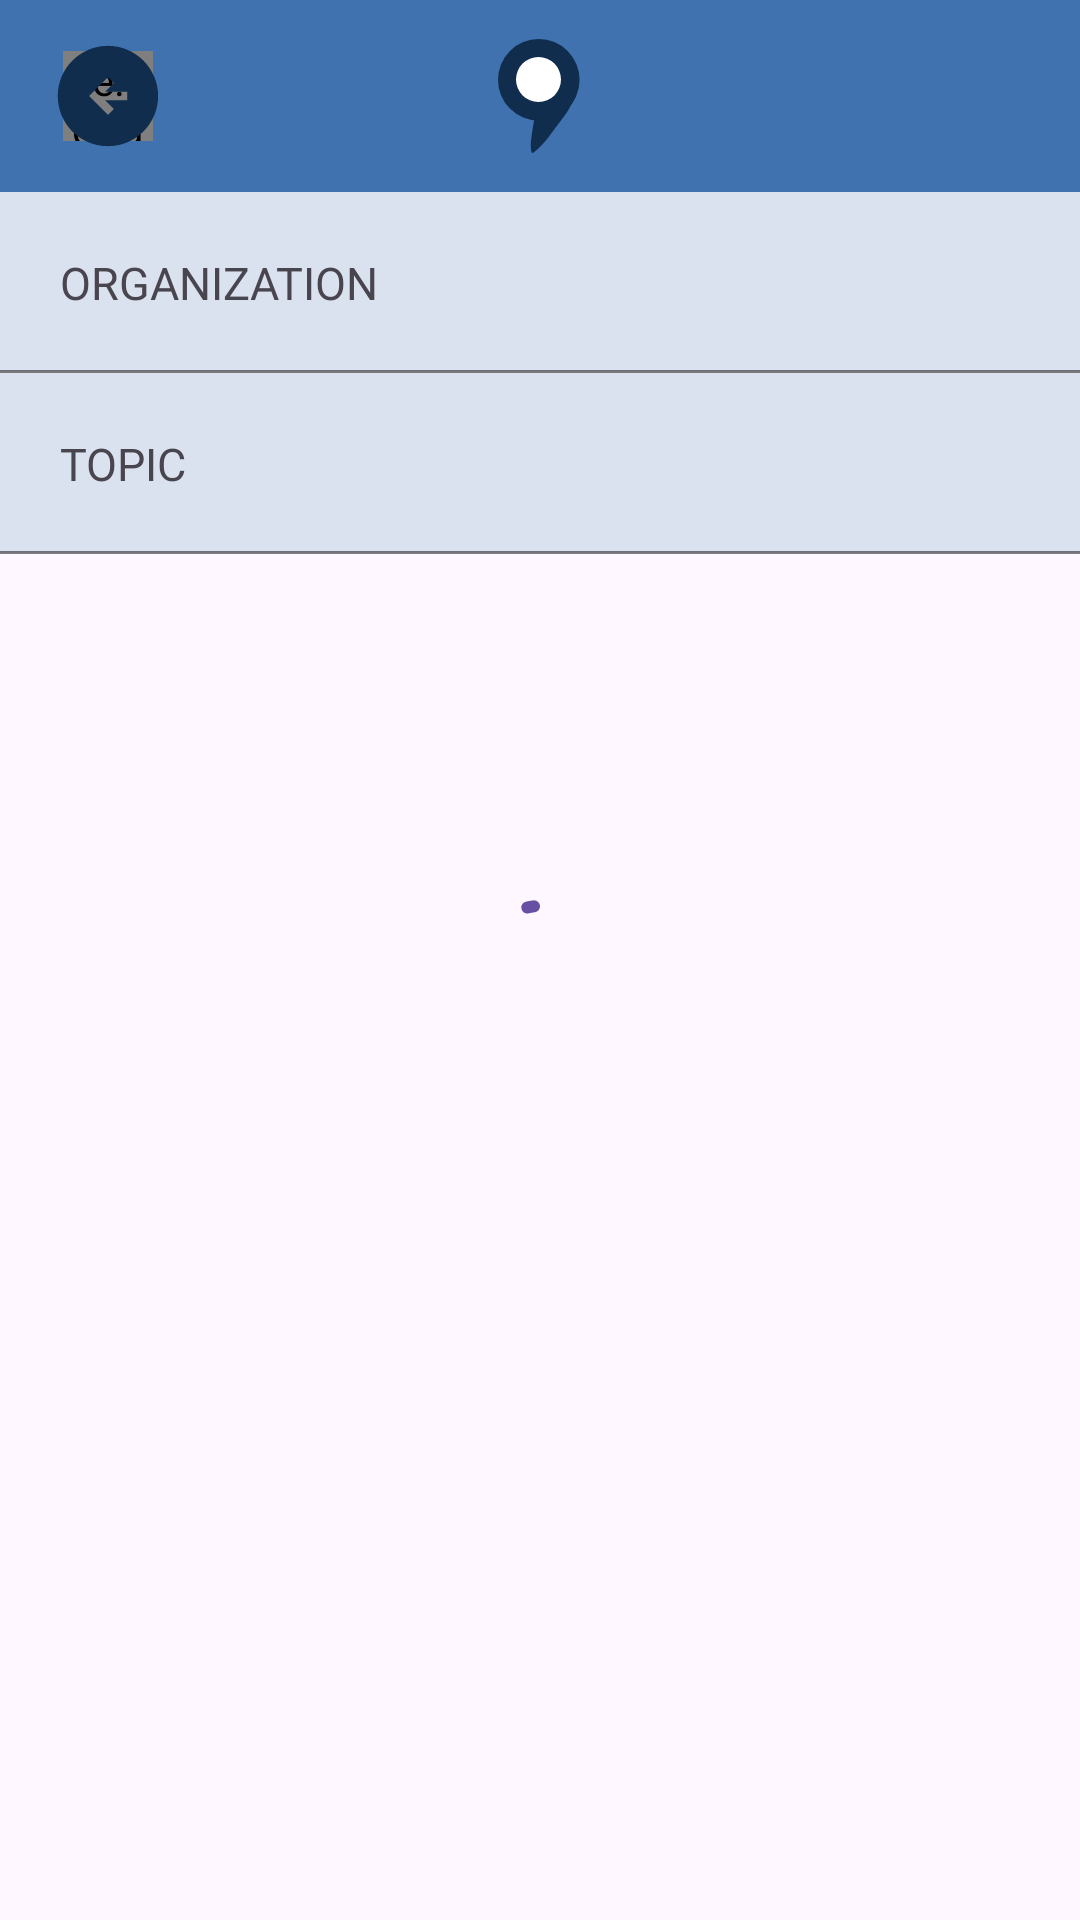

Icon bounding boxes for this 1080px×1920px phone screenshot, format [x1=x1, y1=y1, x2=x2, y2=y2]:
app: [x1=498, y1=39, x2=580, y2=153]
